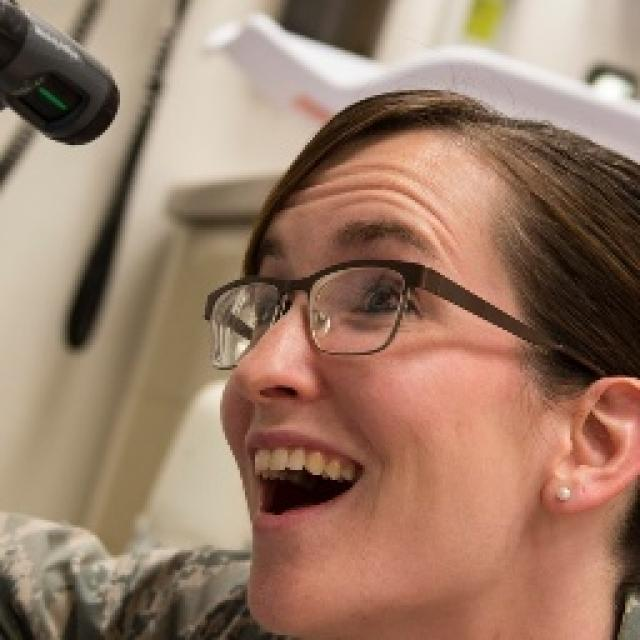glasses: (190, 253, 607, 383)
